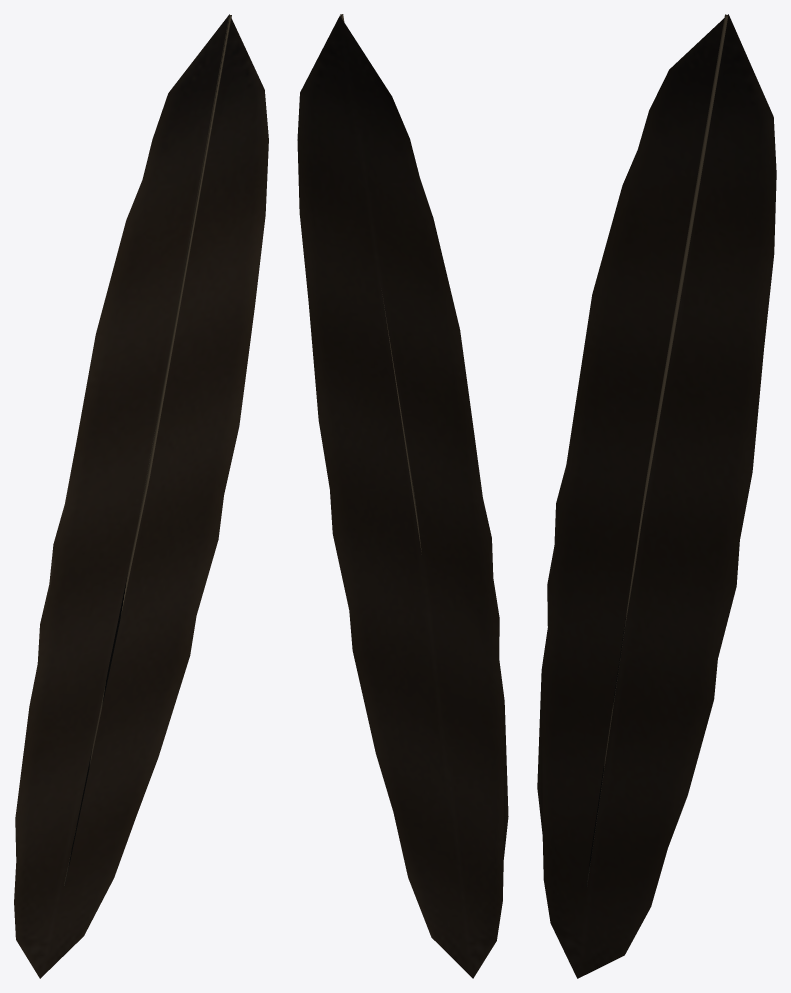
Rendered from bird_rectrix_03.obj.
3 renders of one model, left to right at view 1: azimuth 30°, elevation 25°; view 2: azimuth 150°, elevation 25°; view 3: azimuth 330°, elevation 25°, orthographic. The views are drawn at different scales.
Visible parts, largest first — view 1: PIECE_BIRD_RECTRIX_RIG_03; view 2: PIECE_BIRD_RECTRIX_RIG_03; view 3: PIECE_BIRD_RECTRIX_RIG_03.
Boxes of the visible parts, x1,y1,x2,y2 form: PIECE_BIRD_RECTRIX_RIG_03: (14, 14, 268, 978); PIECE_BIRD_RECTRIX_RIG_03: (297, 14, 508, 978); PIECE_BIRD_RECTRIX_RIG_03: (537, 14, 776, 978).
Bounding box in the file's own units: 0.0472 × 0.1799 × 0.00959.
1 material, 1 textured.
